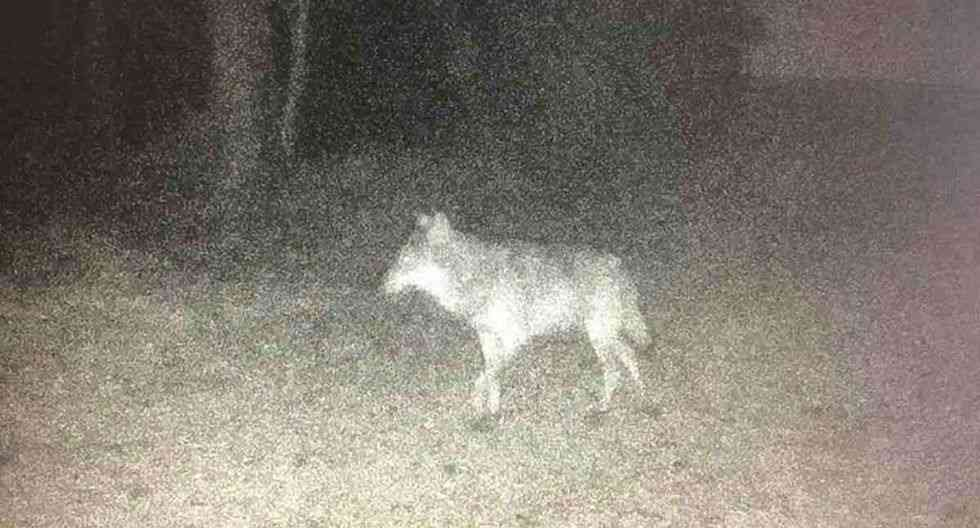Lobo: (350, 212, 679, 410)
